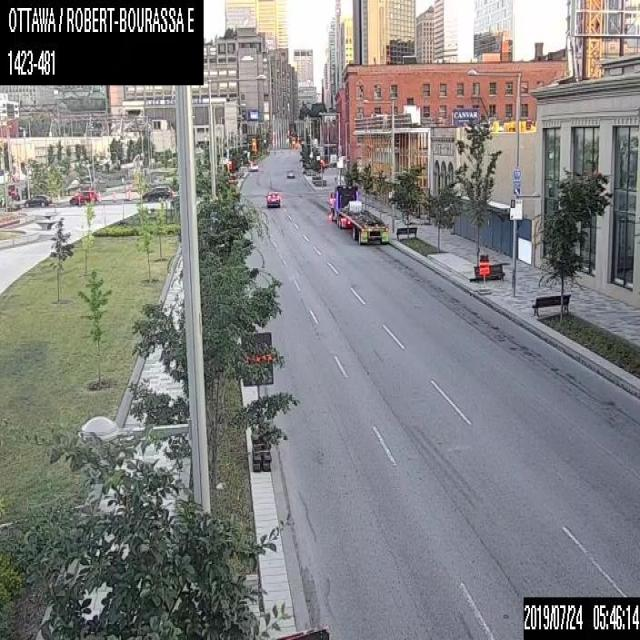construction: (240, 330, 273, 470), (477, 259, 489, 293)
vehicle: (327, 183, 388, 245), (142, 184, 173, 201), (69, 188, 97, 204), (23, 192, 49, 207), (265, 189, 280, 207), (286, 169, 294, 179), (250, 162, 258, 170)
